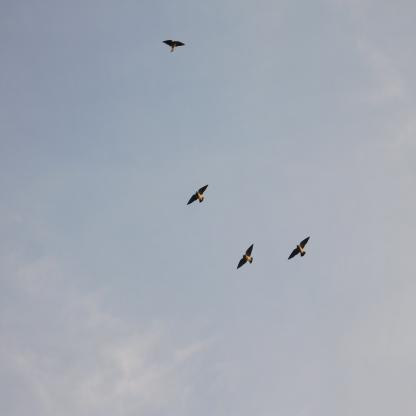bird: (288, 236, 310, 260), (236, 244, 254, 270), (187, 184, 208, 206), (162, 40, 185, 52)
